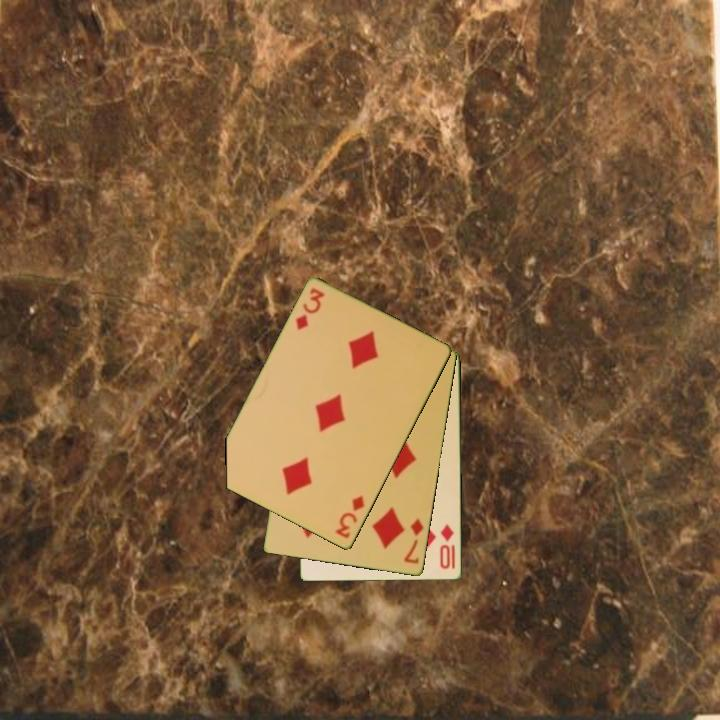10d: (437, 521, 457, 572)
3d: (332, 492, 368, 542), (292, 284, 328, 334)
7d: (401, 515, 426, 567)
